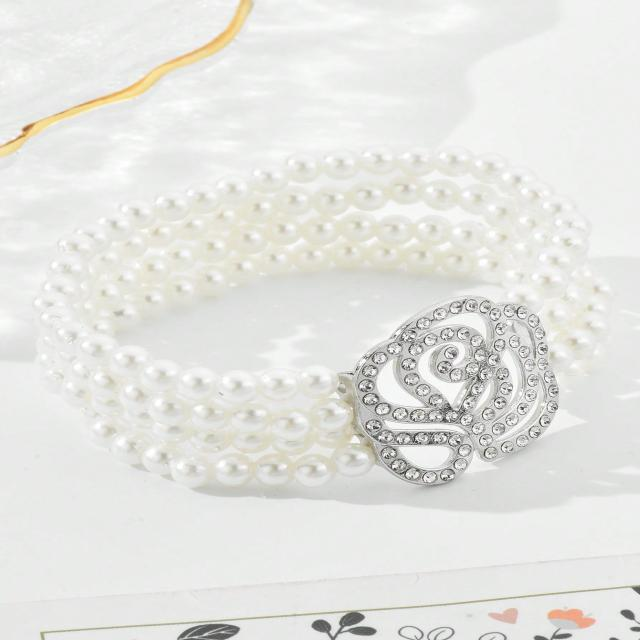bracelet: (6, 124, 640, 524)
